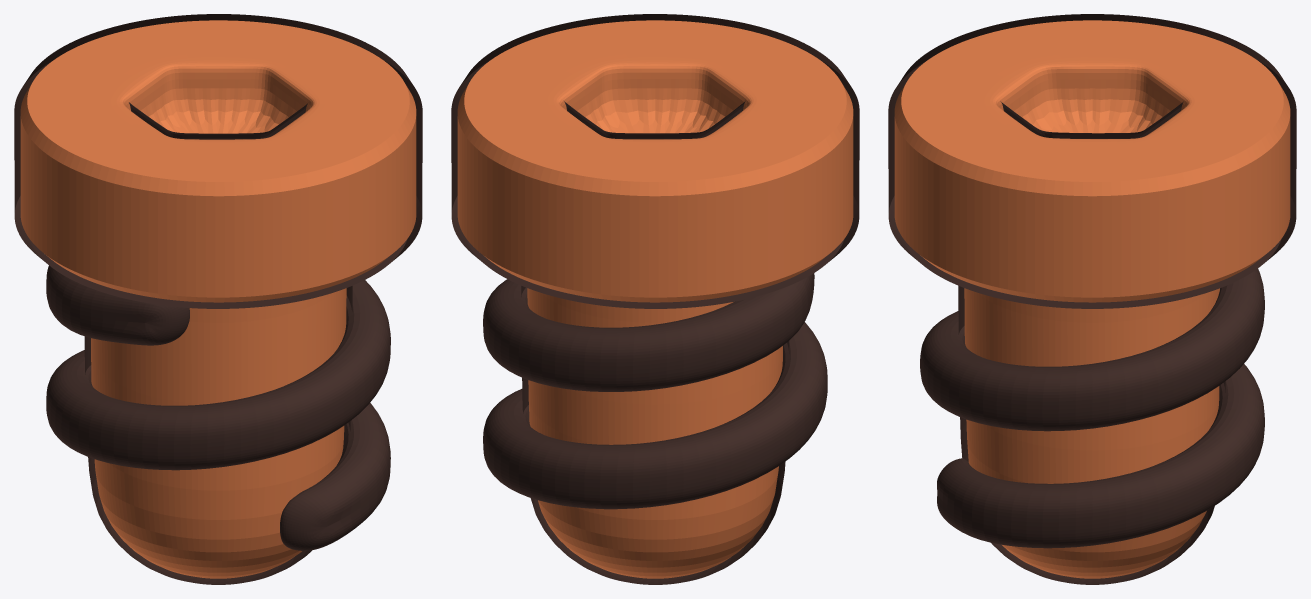
File: Screw.fbx
3 views of the same model, side by side, from view 1: azimuth 30°, elevation 25°; view 2: azimuth 150°, elevation 25°; view 3: azimuth 270°, elevation 25° (orthographic).
Parts seen in each view (by area): view 1: Screw.004; view 2: Screw.004; view 3: Screw.004.
Part boxes in pixels (x1,y1,x2,y2): Screw.004: [14, 14, 422, 584]; Screw.004: [451, 14, 859, 584]; Screw.004: [888, 14, 1296, 584].
Size of the model in its own units: 318 by 318 by 406.
